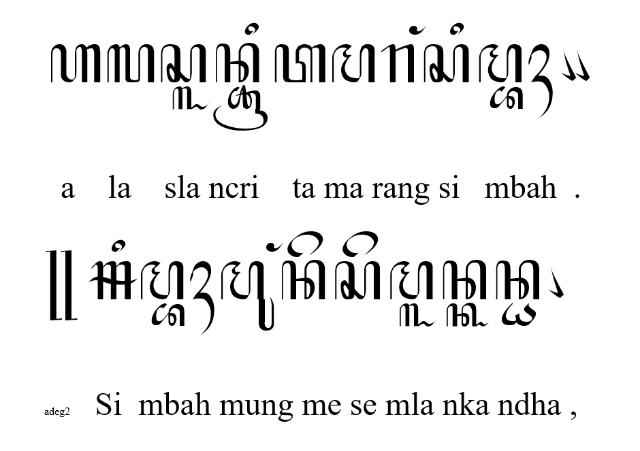S: (90, 262, 138, 300)
_b: (489, 86, 523, 110), (151, 304, 185, 326)
_cr: (214, 85, 268, 131)
_dh: (502, 304, 536, 326)
_h1: (190, 260, 214, 336), (528, 44, 552, 116)
_k: (446, 303, 488, 327)
_l: (399, 304, 436, 328), (172, 86, 208, 110)
adeg2: (46, 250, 76, 320)
e: (287, 230, 323, 258), (344, 230, 378, 258)
h: (50, 43, 100, 82)
i: (244, 22, 260, 34), (450, 23, 464, 35), (111, 240, 125, 252)
kom: (574, 49, 590, 81), (548, 267, 564, 298), (560, 50, 576, 80)
l: (107, 43, 155, 83)
m: (390, 260, 434, 300), (140, 260, 183, 300), (478, 43, 522, 82), (332, 43, 374, 83)
mu: (220, 260, 274, 332)
n: (281, 260, 327, 300), (216, 42, 260, 83), (442, 260, 486, 300), (496, 260, 540, 300)
ng: (266, 242, 284, 252), (408, 25, 426, 34)
r: (381, 44, 415, 84)
s: (422, 44, 470, 84), (160, 43, 206, 82), (335, 262, 381, 300)
t: (274, 43, 326, 83)
